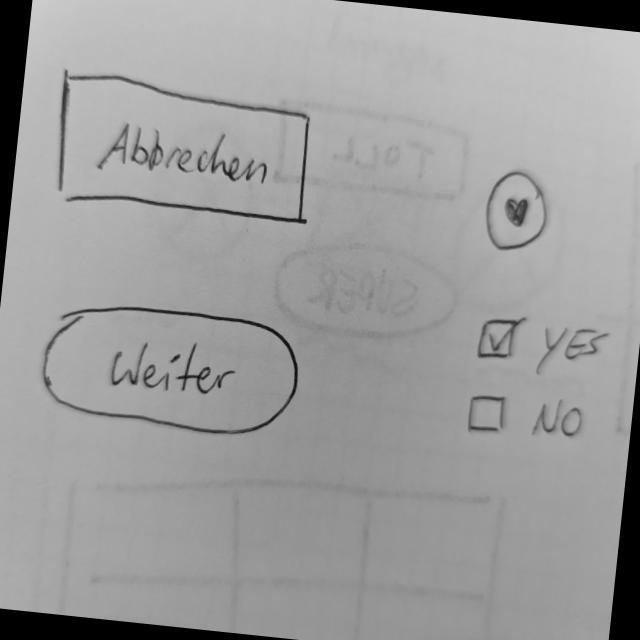button: (45, 67, 321, 234), (38, 294, 308, 446)
checkbox: (474, 309, 611, 382), (464, 384, 588, 450)
icon-button: (480, 165, 555, 260)
